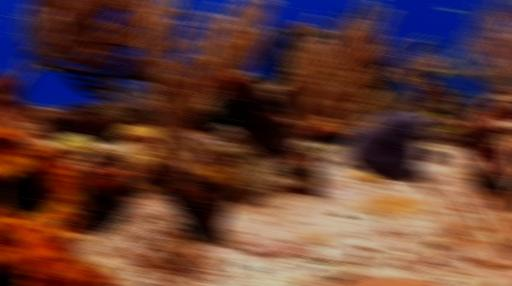Fish: (417, 37, 446, 51), (437, 124, 463, 134), (429, 67, 448, 76), (419, 112, 444, 118), (440, 7, 461, 13), (39, 67, 54, 71)
